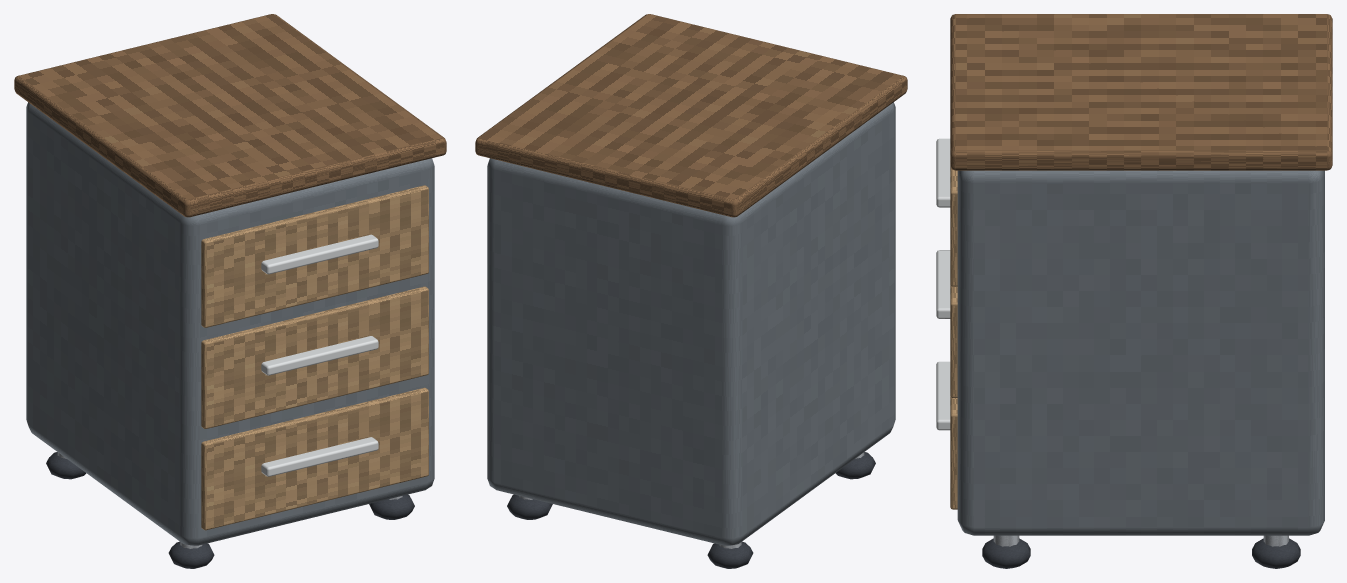
File: desk_drawer_mobile02.glb
3 renders of one model, left to right at view 1: azimuth 30°, elevation 25°; view 2: azimuth 150°, elevation 25°; view 3: azimuth 270°, elevation 25°, orthographic. The views are drawn at different scales.
Visible parts, largest first — view 1: body, drawer_front, top, handle, casters; view 2: body, top, casters; view 3: body, top, handle, drawer_front, casters, caster_pins.
Boxes of the visible parts, x1,y1,x2,y2 form: body: (26, 102, 434, 545); drawer_front: (201, 185, 428, 530); top: (14, 14, 446, 217); handle: (261, 234, 378, 476); casters: (46, 452, 414, 568); body: (487, 102, 895, 545); top: (475, 14, 907, 217); casters: (507, 452, 875, 568); body: (957, 170, 1324, 535); top: (950, 14, 1332, 170); handle: (936, 138, 950, 430); drawer_front: (950, 166, 957, 509); casters: (982, 538, 1300, 568); caster_pins: (993, 535, 1288, 546).
Bounding box in the file's own units: 0.445 × 0.6315 × 0.5285.
Materials: 6 (5 with a texture image).
